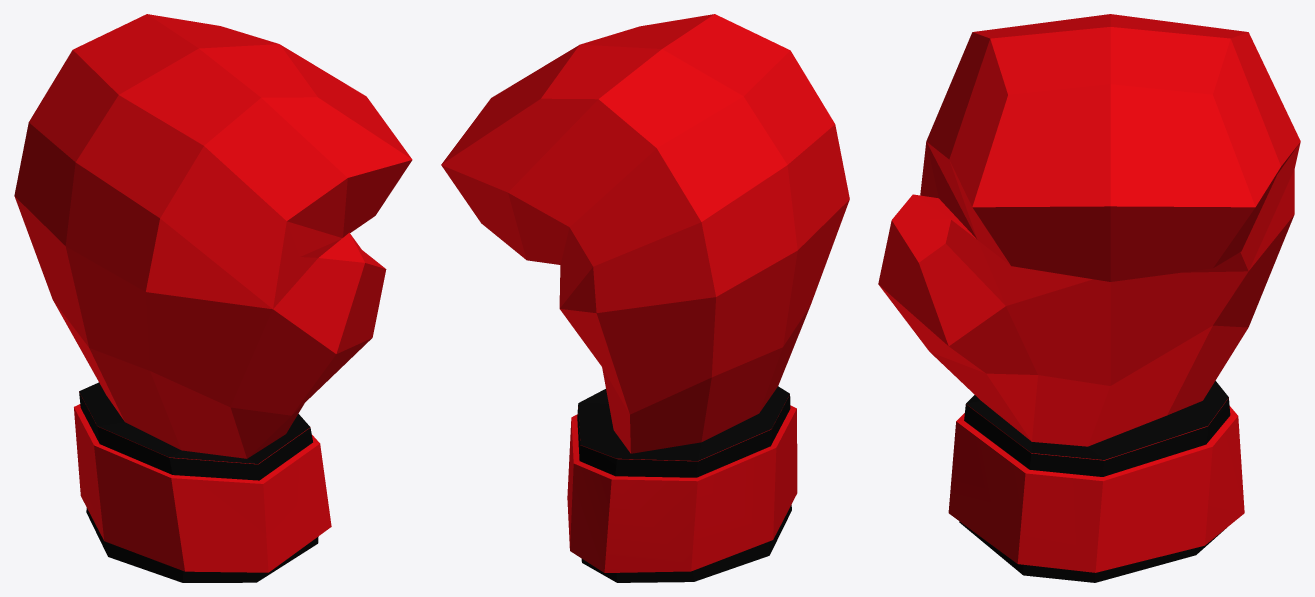
Rendered from BoxinGloveBrawlLevelPlunger.fbx.
3 views of the same model, side by side, from view 1: azimuth 30°, elevation 25°; view 2: azimuth 150°, elevation 25°; view 3: azimuth 270°, elevation 25° (orthographic). The views are drawn at different scales.
Visible parts, largest first — view 1: Boxing Glove.001; view 2: Boxing Glove.001; view 3: Boxing Glove.001.
Part boxes in pixels (<box>): Boxing Glove.001: <box>14,14,412,582</box>; Boxing Glove.001: <box>441,14,849,582</box>; Boxing Glove.001: <box>878,14,1300,582</box>.
Size of the model in its own units: 673 by 1037 by 778.
